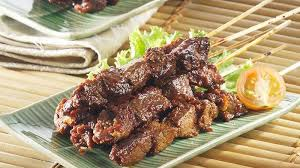sate: (46, 27, 271, 165)
